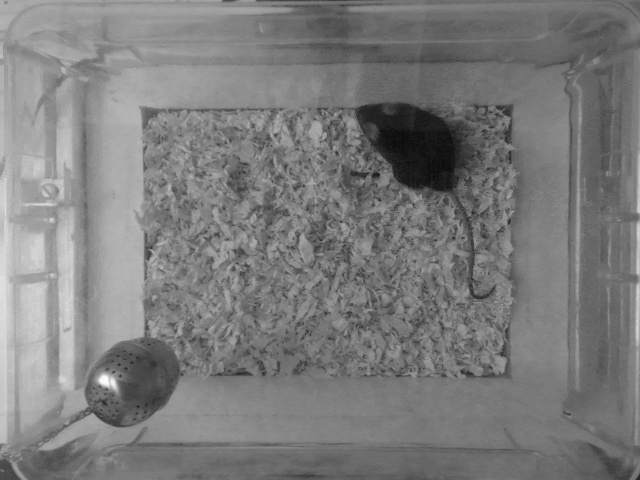mice: (351, 100, 505, 305)
